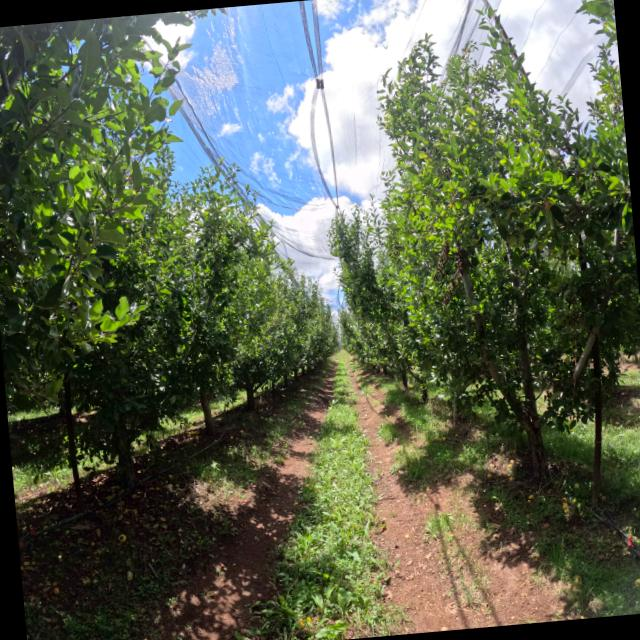-FireBlight-: (442, 240, 465, 306), (433, 241, 450, 280)
